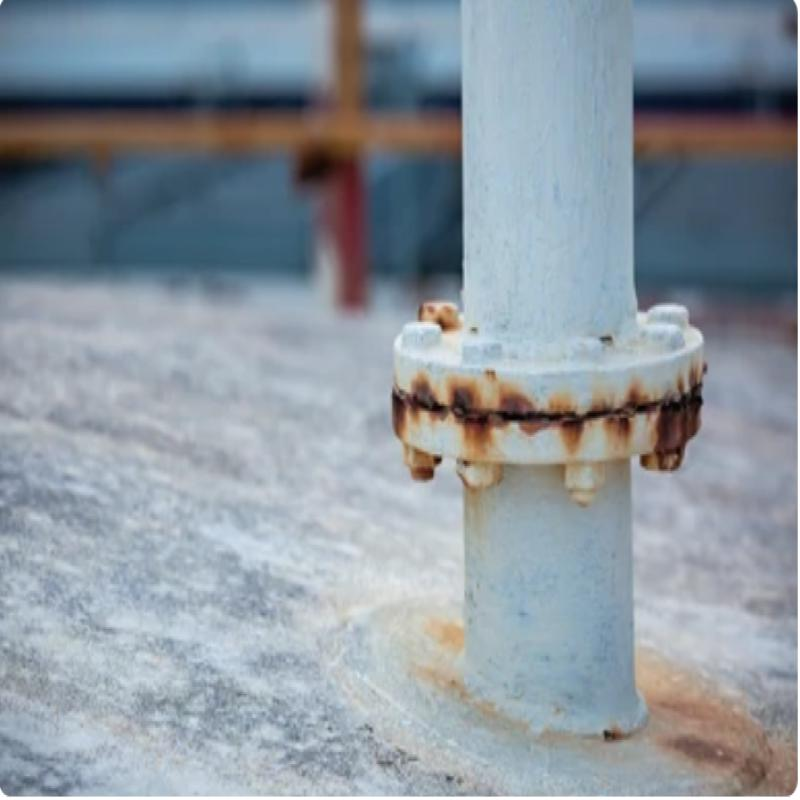corrosion: (373, 302, 735, 500)
